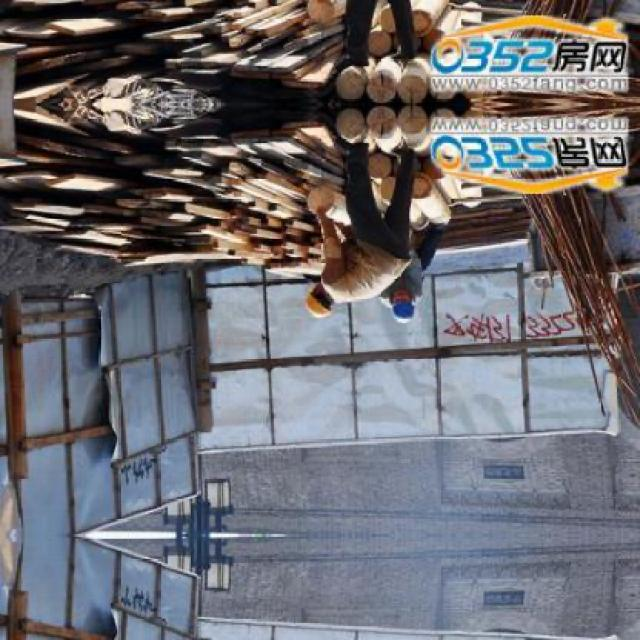con casco: (289, 270, 352, 322), (401, 290, 434, 324)
